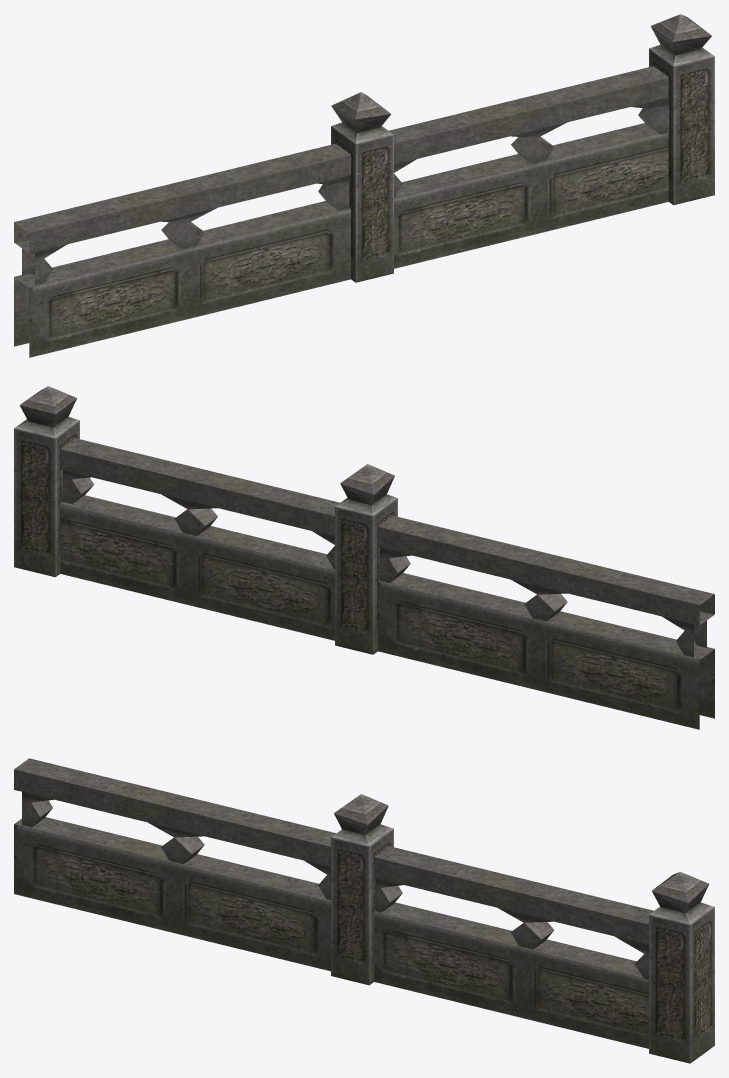
File: lianqizong_taijie05b_jz.FBX
The picture shows the model from 3 angles, top to bottom: view 1: azimuth 30°, elevation 25°; view 2: azimuth 150°, elevation 25°; view 3: azimuth 330°, elevation 25°; orthographic projection.
Parts seen in each view (by area): view 1: lianqizong_taijie05b_jz; view 2: lianqizong_taijie05b_jz; view 3: lianqizong_taijie05b_jz.
Part boxes in pixels (x1,y1,x2,y2): lianqizong_taijie05b_jz: [14, 14, 714, 357]; lianqizong_taijie05b_jz: [14, 386, 714, 729]; lianqizong_taijie05b_jz: [14, 758, 714, 1063].
Size of the model in its own units: 291 by 72.54 by 18.29.
